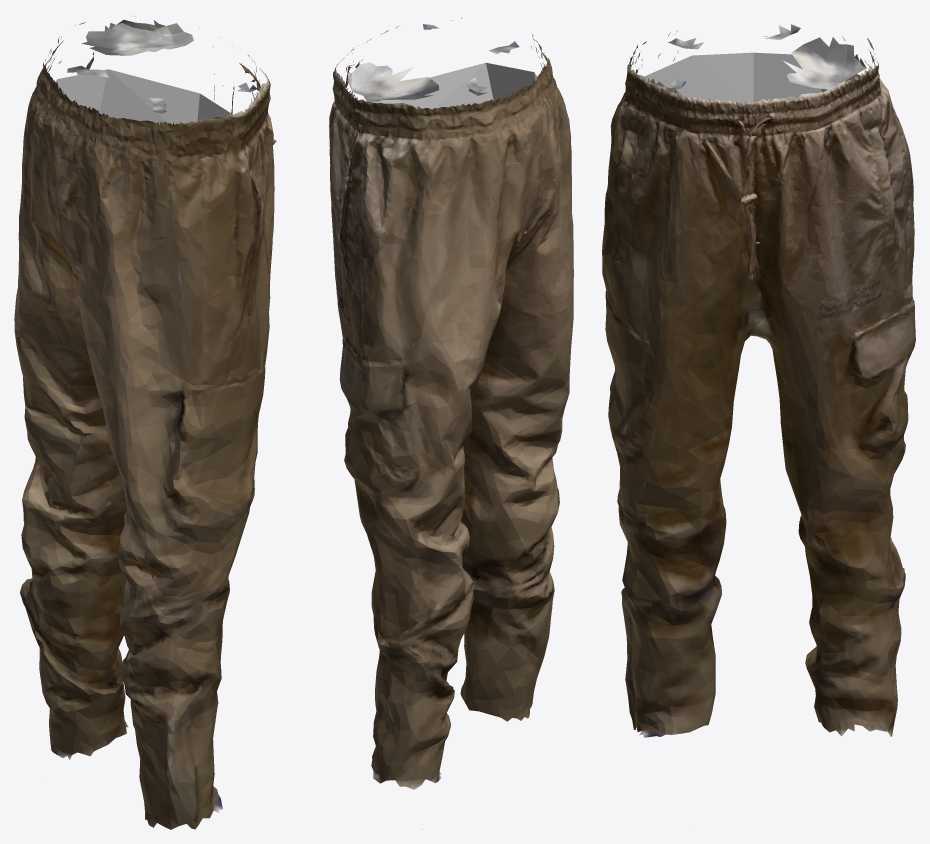
File: KhakiJoggers.glb
3 views of the same model, side by side, from view 1: azimuth 30°, elevation 25°; view 2: azimuth 150°, elevation 25°; view 3: azimuth 270°, elevation 25° (orthographic). The views are drawn at different scales.
Parts seen in each view (by area): view 1: Legs; view 2: Legs; view 3: Legs.
Part boxes in pixels (x1,y1,x2,y2): Legs: (14, 16, 276, 829); Legs: (329, 17, 573, 829); Legs: (602, 24, 915, 737).
Size of the model in its own units: 0.3857 by 1.23 by 0.4799.
Materials: 3 (1 with a texture image).
